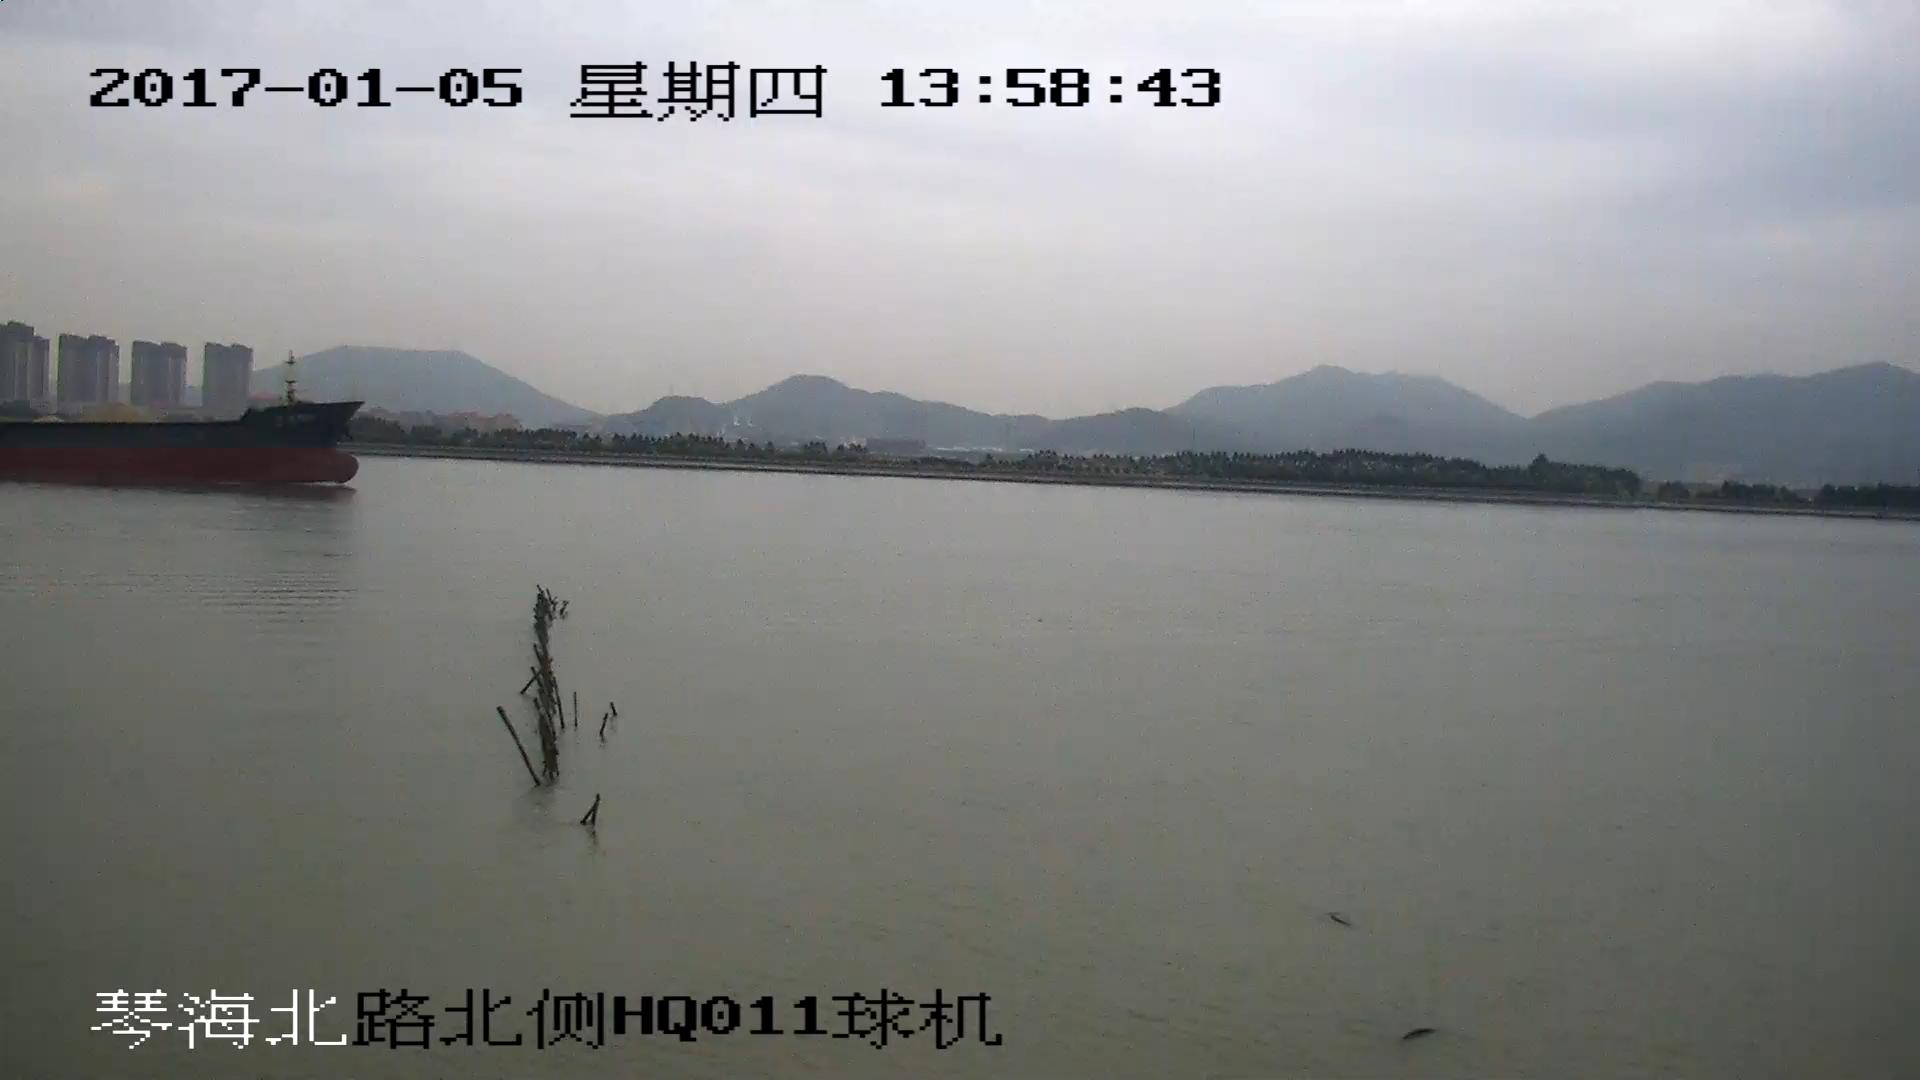general cargo ship: (1, 361, 365, 488)
